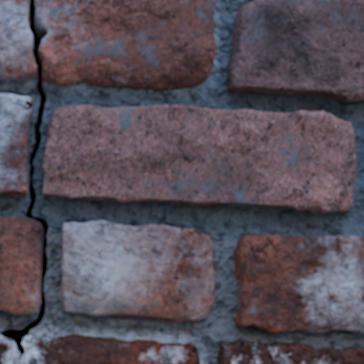brick: (42, 105, 355, 213), (58, 221, 214, 321), (227, 0, 363, 103), (234, 234, 363, 333), (0, 217, 42, 314), (218, 340, 363, 363), (0, 94, 30, 198)
broken_brick: (36, 0, 216, 90), (21, 333, 200, 363), (0, 0, 36, 82), (0, 336, 17, 363)
crack: (0, 0, 48, 363), (24, 96, 33, 110)
